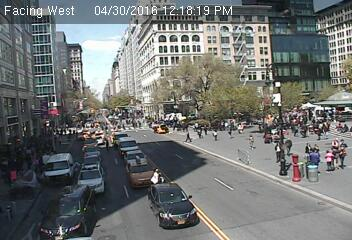neg: (109, 152, 145, 200)
